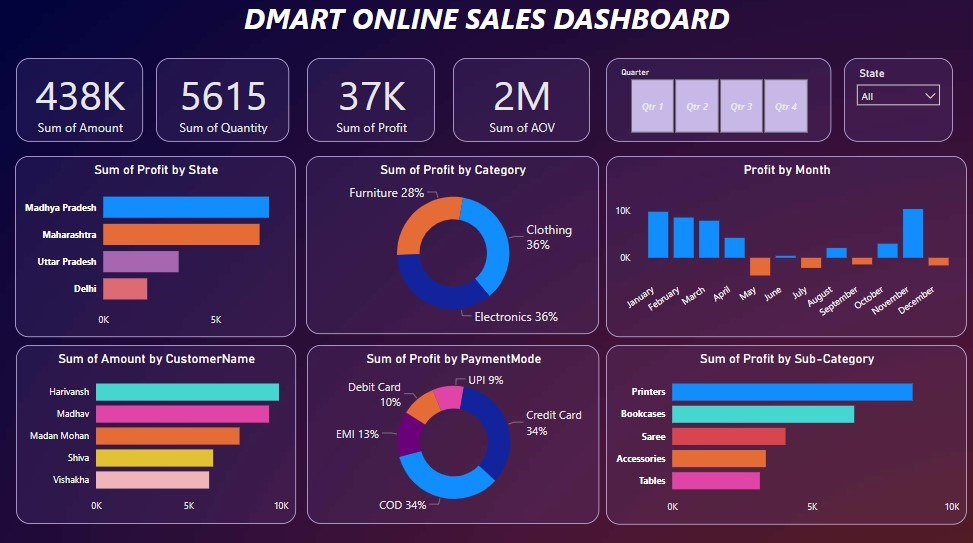

This screenshot's page, from the dashboard's own definition file:
{"tool":"powerbi","page":{"name":"Page 1","canvas":[1280,720],"ordinal":0},"visuals":[{"type":"textbox","box":[0,0,1279.7,82.8],"z":0},{"type":"columnChart","title":"Profit by Month","fields":{"Category":["Orders.Order Date.Variation.Date Hierarchy.Month"],"Y":["Details.Profit"]},"box":[796.2,211.5,474.3,237.8],"z":1000},{"type":"barChart","fields":{"Y":["Details.Profit"],"Category":["Details.Sub-Category"]},"box":[795.9,459.5,474.3,236.3],"z":2000},{"type":"donutChart","fields":{"Category":["Details.Category"],"Y":["Details.Profit"]},"box":[402,211.5,385,233.9],"z":3000},{"type":"donutChart","fields":{"Y":["Details.Profit"],"Category":["Details.PaymentMode"]},"box":[403.7,459.5,384,234.7],"z":4000},{"type":"card","fields":{"Values":["Details.Amount"]},"box":[21,82.8,166.9,110.4],"z":5000},{"type":"card","fields":{"Values":["Details.Quantity"]},"box":[205,82.8,174.7,110.4],"z":6000},{"type":"card","fields":{"Values":["Details.Profit"]},"box":[403.4,82.8,168.2,110.4],"z":7000},{"type":"card","fields":{"Values":["Details.AOV"]},"box":[595.2,82.8,180,110.4],"z":8000},{"type":"barChart","fields":{"Y":["Details.Profit"],"Category":["Orders.State"]},"box":[19.7,211.7,369.2,237.9],"z":9000},{"type":"barChart","fields":{"Category":["Orders.CustomerName"],"Y":["Details.Amount"]},"box":[21.3,459.5,367.6,234.7],"z":10000},{"type":"slicer","fields":{"Values":["Orders.Order Date.Variation.Date Hierarchy.Quarter"]},"box":[796.2,82.8,295.6,110.4],"z":11000},{"type":"slicer","fields":{"Values":["Orders.State"]},"box":[1108.9,82.8,143.2,110.4],"z":11001}]}

Visuals, with their boxes in screenshot pixels (x1, y1, x2, y2), scaled from the page's 1280x720 canvas onto the 973x543 screenshot:
textbox: bbox=[0, 0, 972, 62]
"Profit by Month" columnChart: bbox=[605, 160, 966, 339]
barChart - Details.Profit x Details.Sub-Category: bbox=[605, 347, 966, 525]
donutChart - Details.Category x Details.Profit: bbox=[306, 160, 598, 336]
donutChart - Details.Profit x Details.PaymentMode: bbox=[307, 347, 599, 524]
card - Details.Amount: bbox=[16, 62, 143, 146]
card - Details.Quantity: bbox=[156, 62, 289, 146]
card - Details.Profit: bbox=[307, 62, 435, 146]
card - Details.AOV: bbox=[452, 62, 589, 146]
barChart - Details.Profit x Orders.State: bbox=[15, 160, 296, 339]
barChart - Orders.CustomerName x Details.Amount: bbox=[16, 347, 296, 524]
slicer - Orders.Order Date.Variation.Date Hierarchy.Quarter: bbox=[605, 62, 830, 146]
slicer - Orders.State: bbox=[843, 62, 952, 146]
